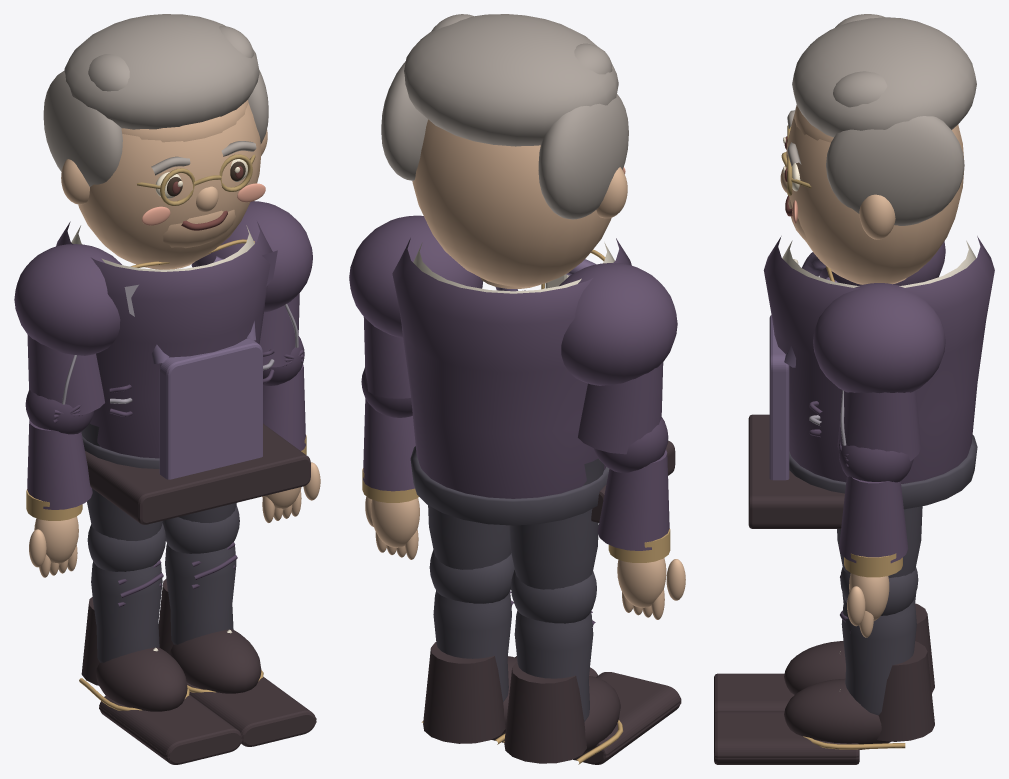
The model's file is sage.glb.
3 renders of one model, left to right at view 1: azimuth 30°, elevation 25°; view 2: azimuth 150°, elevation 25°; view 3: azimuth 270°, elevation 25°, orthographic. The views are drawn at different scales.
Visible parts, largest first — view 1: Tailored coat, Hair cap, Face, Apron panel, Tool belt, Shoulder -1, Sole -1, Trousers calf 1, Trousers calf -1, Side hair -1, Shoulder 1, Sole 1 (+25 smaller); view 2: Tailored coat, Hair cap, Face, Shoulder -1, Side hair -1, Shoulder 1, Boot shaft -1, Boot shaft 1, Trousers thigh -1, Trouser waistband, Sleeve forearm -1, Sleeve upper -1 (+20 smaller); view 3: Tailored coat, Hair cap, Shoulder 1, Side hair 1, Face, Tool belt, Sole 1, Trousers calf 1, Sleeve forearm 1, Leather toe 1, Sleeve upper 1, Boot shaft 1 (+17 smaller).
Boxes of the visible parts, x1,y1,x2,y2 form: Tailored coat: [56, 221, 272, 458]; Hair cap: [64, 14, 259, 129]; Face: [78, 103, 261, 268]; Apron panel: [159, 338, 262, 479]; Tool belt: [85, 423, 310, 524]; Shoulder -1: [14, 244, 121, 355]; Sole -1: [99, 695, 242, 764]; Trousers calf 1: [165, 543, 236, 644]; Trousers calf -1: [91, 561, 162, 662]; Side hair -1: [43, 71, 122, 186]; Shoulder 1: [191, 201, 312, 312]; Sole 1: [186, 677, 316, 746]; Tailored coat: [392, 238, 631, 498]; Hair cap: [404, 14, 618, 146]; Face: [412, 119, 611, 286]; Shoulder -1: [559, 263, 677, 385]; Side hair -1: [538, 94, 628, 219]; Shoulder 1: [349, 215, 483, 337]; Boot shaft -1: [504, 662, 586, 763]; Boot shaft 1: [423, 642, 505, 743]; Trousers thigh -1: [509, 458, 604, 589]; Trouser waistband: [410, 446, 609, 525]; Sleeve forearm -1: [597, 449, 669, 550]; Sleeve upper -1: [578, 362, 663, 454]; Tailored coat: [763, 236, 994, 483]; Hair cap: [792, 17, 976, 137]; Shoulder 1: [813, 283, 945, 393]; Side hair 1: [826, 116, 964, 225]; Face: [786, 113, 964, 284]; Tool belt: [748, 414, 844, 528]; Sole 1: [714, 711, 859, 764]; Trousers calf 1: [841, 600, 916, 715]; Sleeve forearm 1: [839, 476, 908, 563]; Leather toe 1: [784, 678, 890, 749]; Sleeve upper 1: [837, 390, 921, 461]; Boot shaft 1: [877, 641, 934, 741].
Bounding box in the file's own units: 1.23 × 2.69 × 0.9817.
